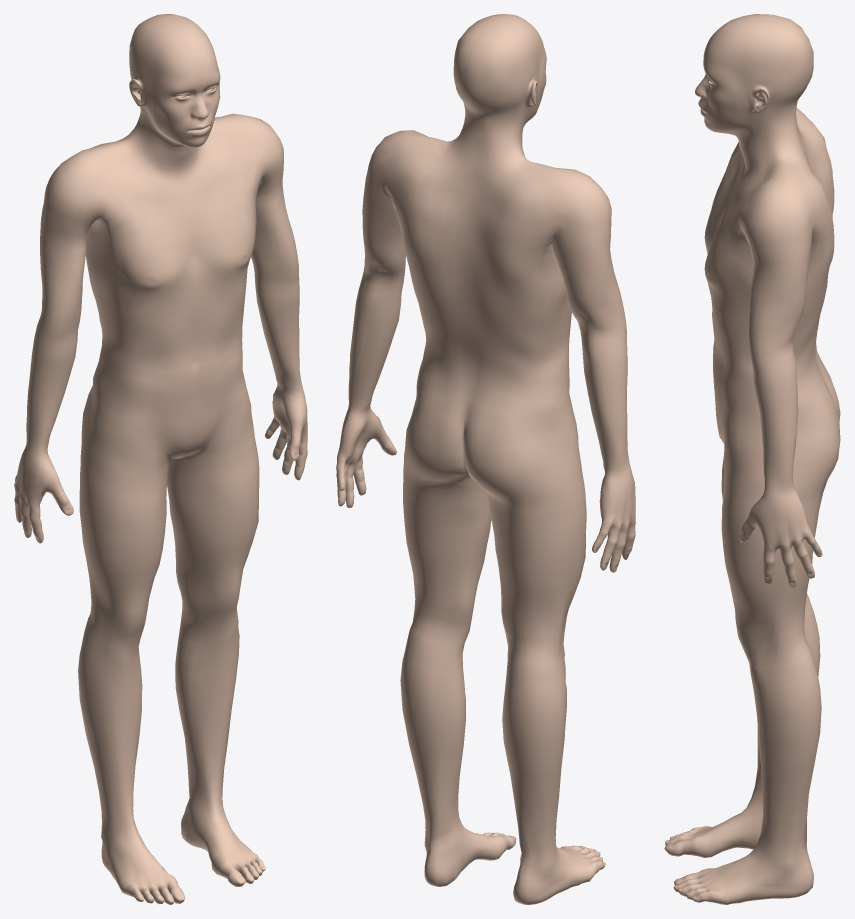
File: HumanBase.glb
3 views of the same model, side by side, from view 1: azimuth 30°, elevation 25°; view 2: azimuth 150°, elevation 25°; view 3: azimuth 270°, elevation 25° (orthographic). The views are drawn at different scales.
Visible parts, largest first — view 1: Human; view 2: Human; view 3: Human.
Part boxes in pixels (x1,y1,x2,y2): Human: [14, 14, 307, 904]; Human: [336, 14, 635, 904]; Human: [664, 14, 840, 904].
Bounding box in the file's own units: 0.605 × 1.74 × 0.3233.
